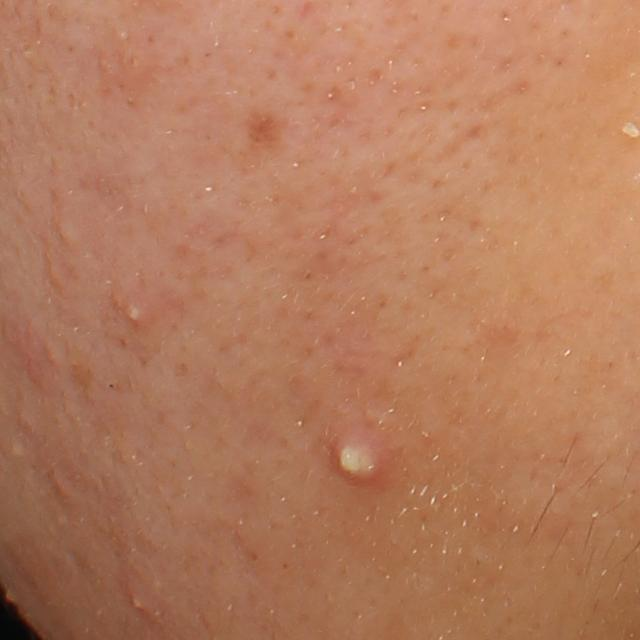comedo: (55, 223, 83, 251), (8, 436, 35, 461)
pustule: (313, 422, 393, 487), (114, 291, 145, 328)
